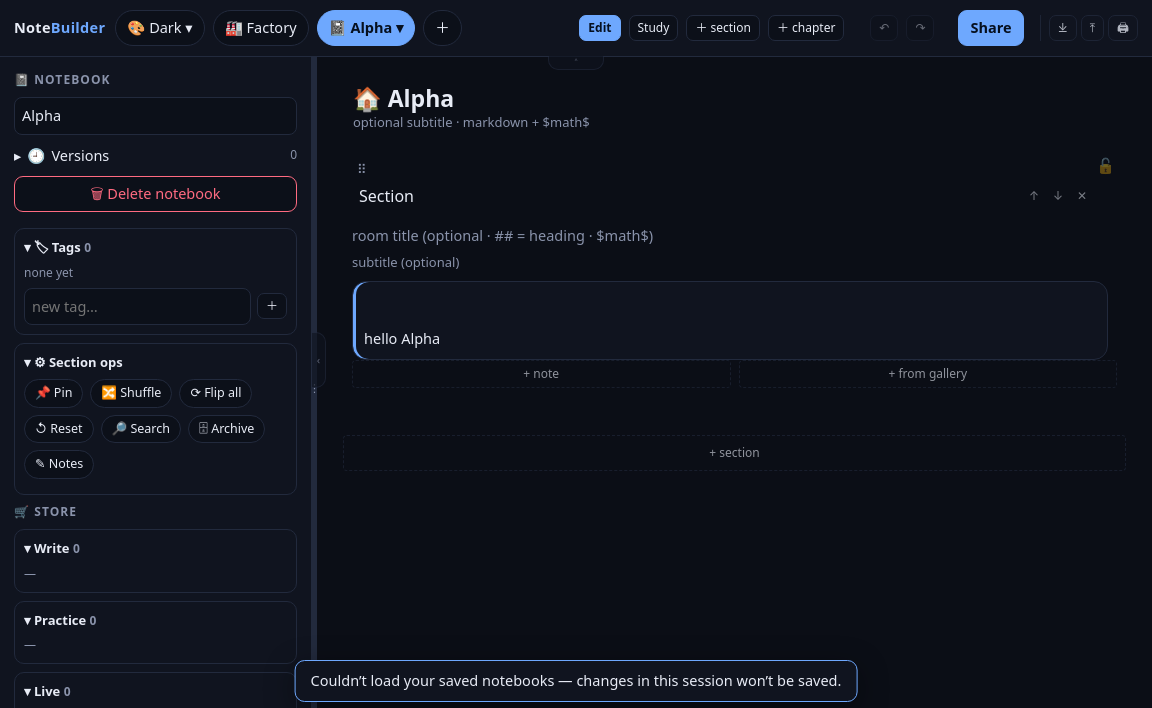
Test: App durability — flushes › switching notebooks saves the outgoing notebook’s last edits first
Step 1. Click the button with class "add-card" showing "+ note" → (541, 374), box [352,360,730,388]
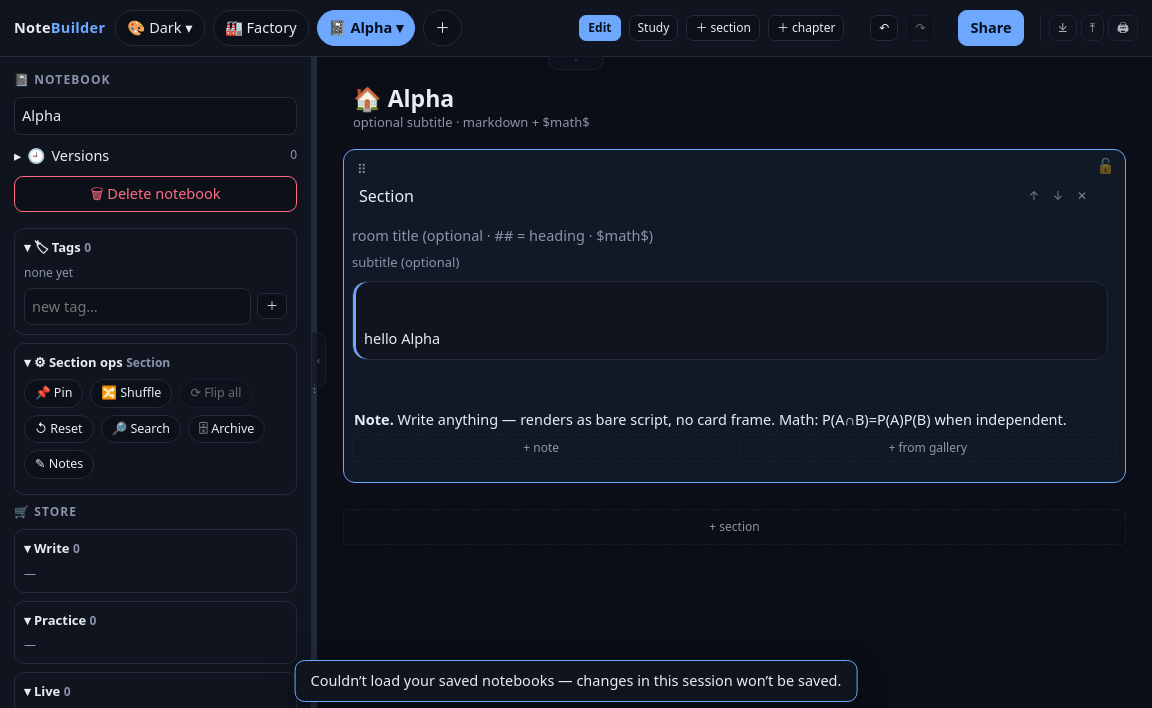
Step 2. Click the button "📓 Alpha ▾" → (366, 28), box [316,10,415,46]
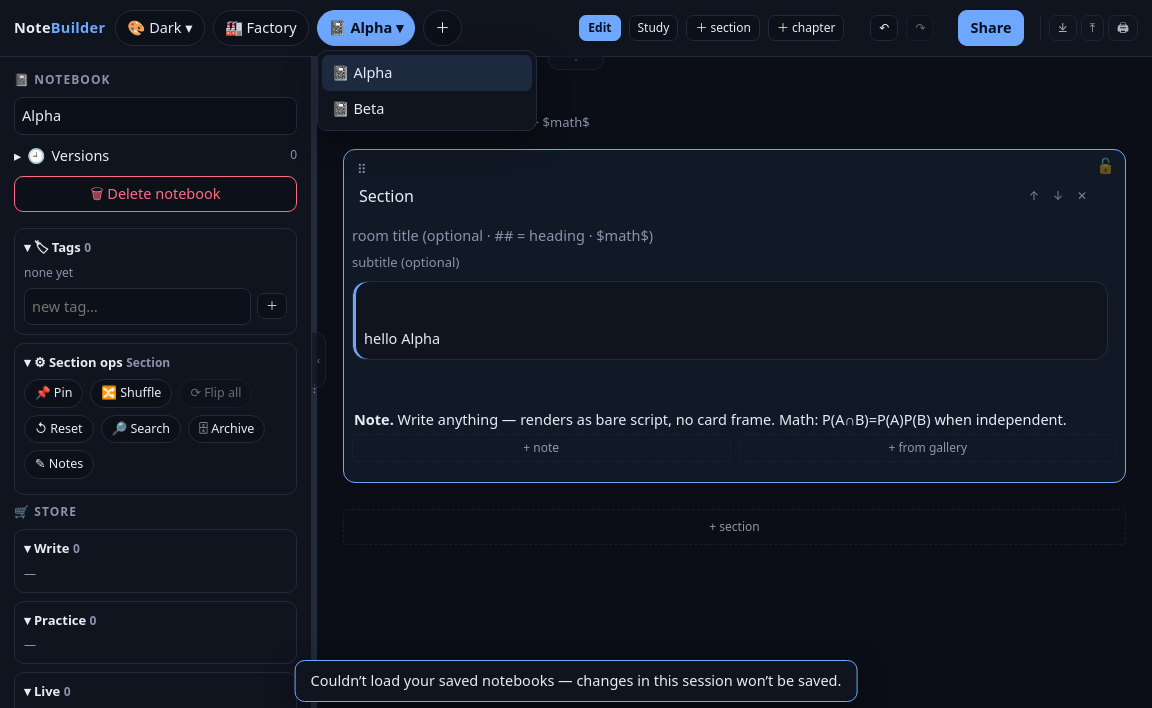
Step 3. Click the menu item with class "nbitem" showing "📓 Beta" → (426, 108), box [322,90,532,126]
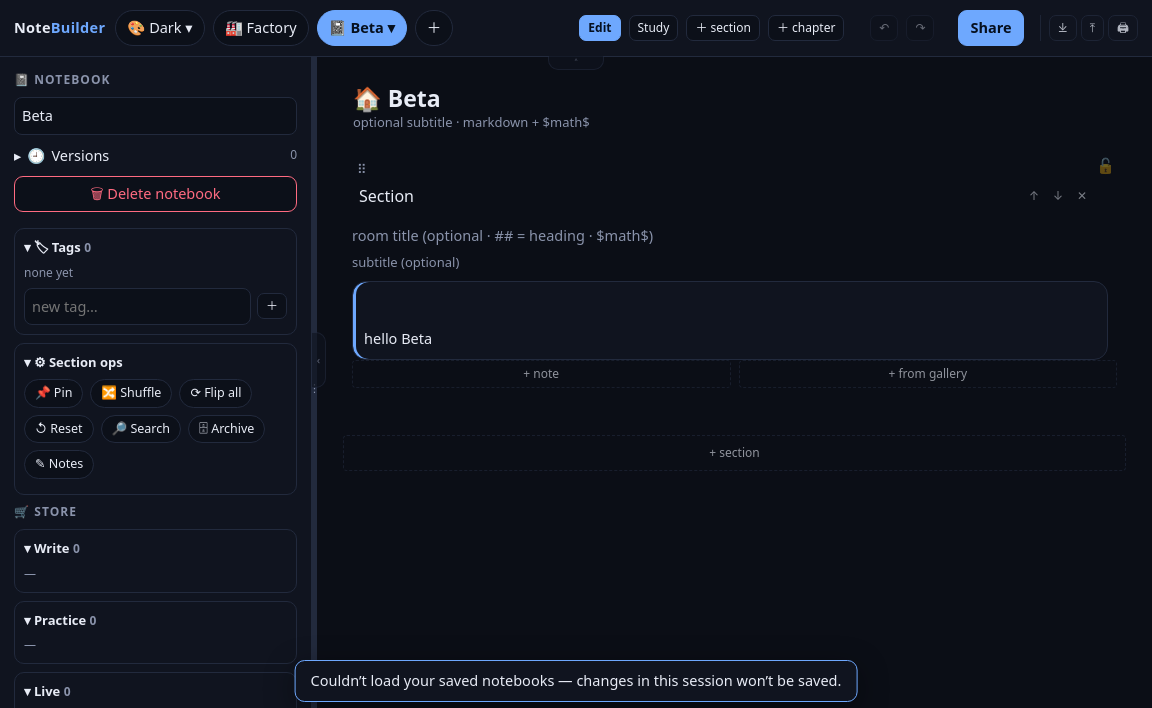
Expected: the text "hello Beta" is shown, [364,328,432,348]
